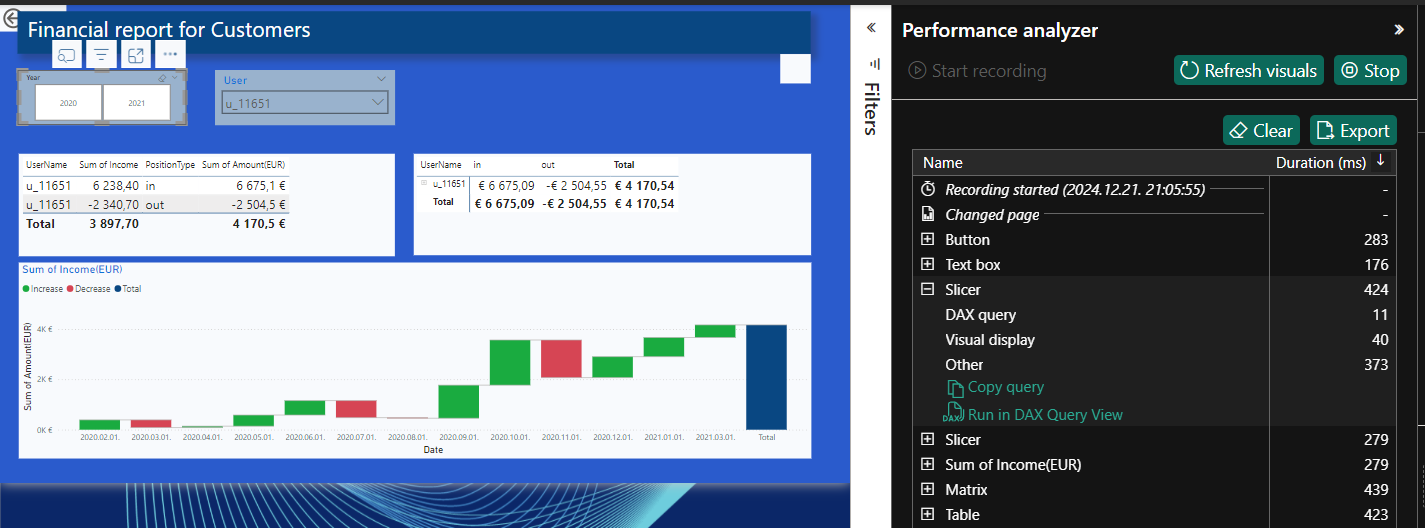

This screenshot's page, from the dashboard's own definition file:
{"tool":"powerbi","page":{"name":"ReportOverall","canvas":[1280,720],"ordinal":7},"visuals":[{"type":"tableEx","fields":{"Values":["DATA.UserName","Sum(DATA.Income)","DATA.IncomeType","Sum(DATA.Amount(EUR))"]},"box":[28.2,224,566.6,154.4],"z":0},{"type":"pivotTable","fields":{"Rows":["DATA.UserName","DATA.CorrEndDate.Variation.Date Hierarchy.Year"],"Columns":["DATA.IncomeType"],"Values":["Calculations.SumNonZeroIncomeEUR"]},"box":[623.1,224,598.6,152.5],"z":1000},{"type":"slicer","fields":{"Values":["DATA.PeriodEndYear"]},"box":[26.4,97.9,254.1,82.8],"z":2000},{"type":"waterfallChart","title":"Sum of Income(EUR)","fields":{"Y":["Sum(DATA.Amount(EUR))"],"Category":["DATA.CorrEndDate.Variation.Date Hierarchy.Year"]},"box":[28.2,387.8,1193.4,295.5],"z":3000},{"type":"actionButton","box":[0,0,100,40],"z":4000},{"type":"textbox","box":[27.1,10,1194.3,64.3],"z":5000},{"type":"slicer","fields":{"Values":["DATA.UserName"]},"box":[323.8,97.9,271.1,82.8],"z":6000}]}

Visuals, with their boxes on the page's 1280x720 design canvas (x1, y1, x2, y2). These are canvas units, not pixel positions in the 1425x528 screenshot, which may show the page scaled, cropped or inside an application window:
tableEx - DATA.UserName x Sum(DATA.Income): (x1=28, y1=224, x2=595, y2=378)
pivotTable - DATA.UserName x DATA.CorrEndDate.Variation.Date Hierarchy.Year: (x1=623, y1=224, x2=1222, y2=376)
slicer - DATA.PeriodEndYear: (x1=26, y1=98, x2=280, y2=181)
"Sum of Income(EUR)" waterfallChart: (x1=28, y1=388, x2=1222, y2=683)
actionButton: (x1=0, y1=0, x2=100, y2=40)
textbox: (x1=27, y1=10, x2=1221, y2=74)
slicer - DATA.UserName: (x1=324, y1=98, x2=595, y2=181)
